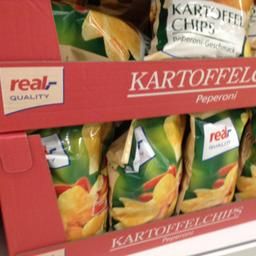chips: (26, 122, 108, 244), (107, 112, 184, 226), (182, 108, 246, 212)
